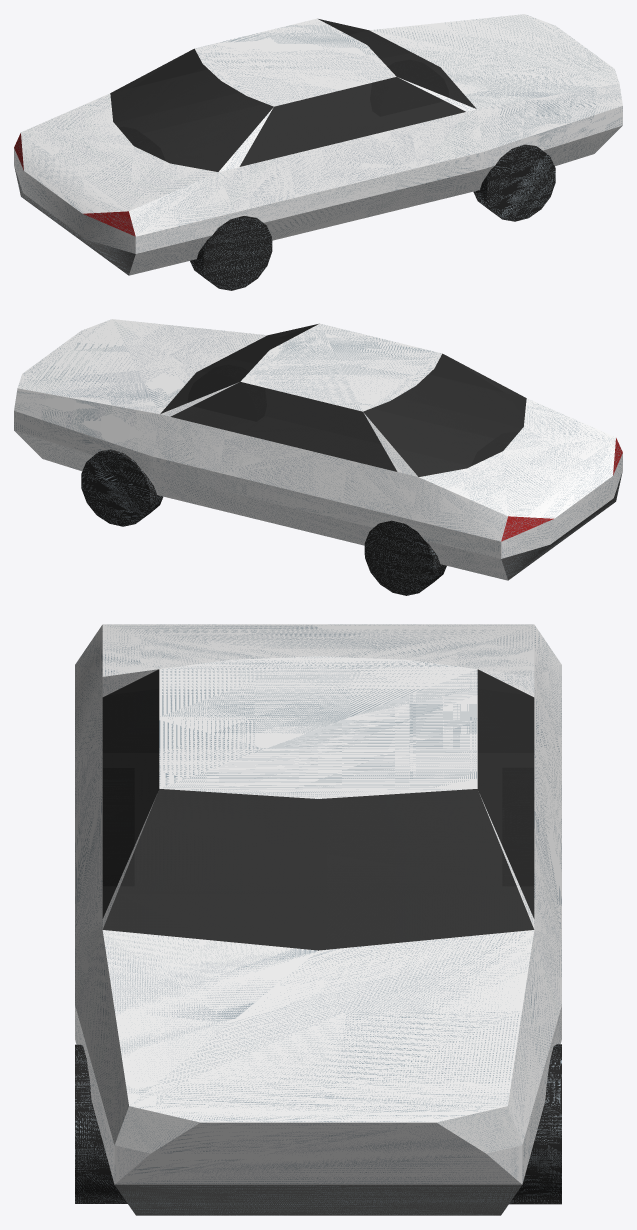
File: drifter.dae
3 views of the same model, one above another, from view 1: azimuth 30°, elevation 25°; view 2: azimuth 150°, elevation 25°; view 3: azimuth 270°, elevation 25° (orthographic). The views are drawn at different scales.
Parts seen in each view (by area): view 1: Simple_sedan (×7), CarTire3 (×2); view 2: Simple_sedan (×7), CarTire3 (×2); view 3: Simple_sedan (×8), CarTire3 (×2).
Part boxes in pixels (<box>): Simple_sedan (×7): <box>14,14,622,275</box>; CarTire3 (×2): <box>190,144,555,290</box>; Simple_sedan (×7): <box>14,319,622,580</box>; CarTire3 (×2): <box>81,449,446,595</box>; Simple_sedan (×8): <box>75,624,561,1215</box>; CarTire3 (×2): <box>75,1044,561,1204</box>.
Size of the model in its own units: 205 by 81.42 by 56.54.
